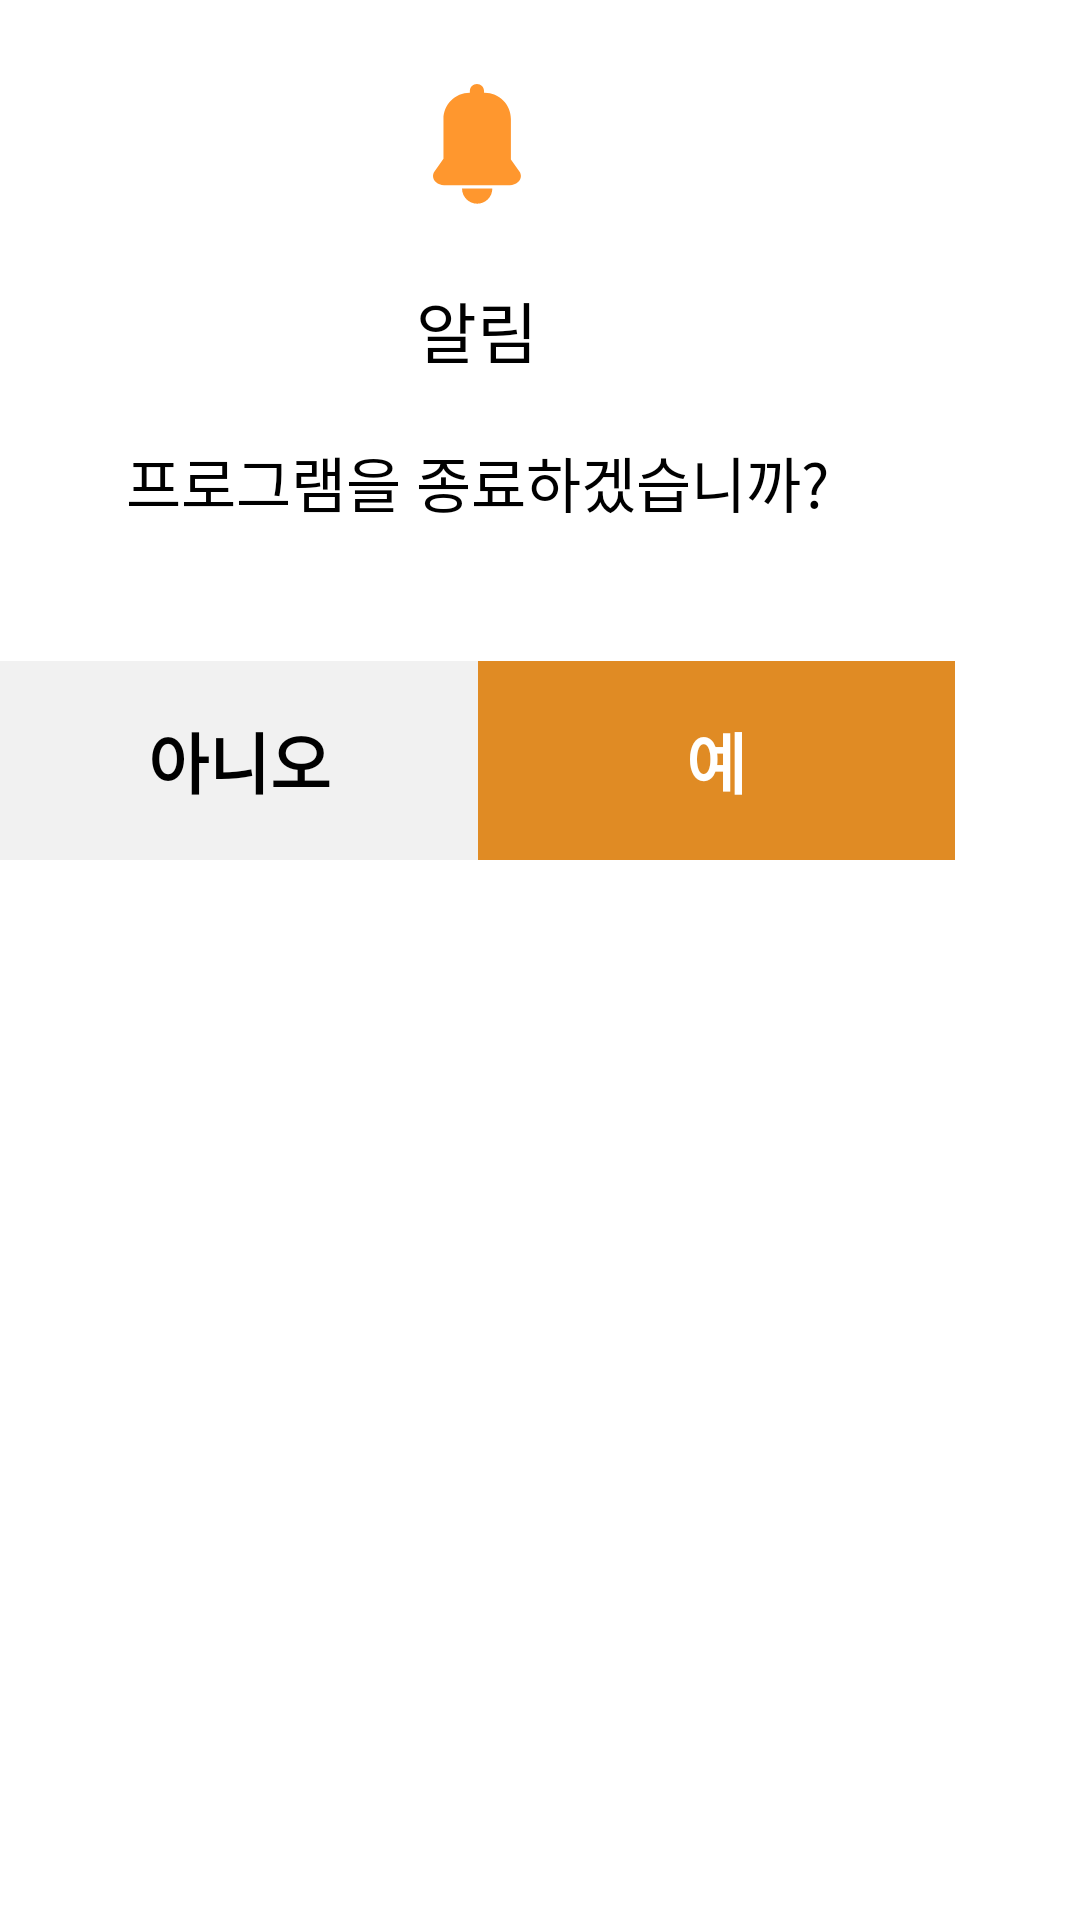

Icon click points for this 1080 x 1920 phone screenshot, format [x,y]:
bell: [477,144]
